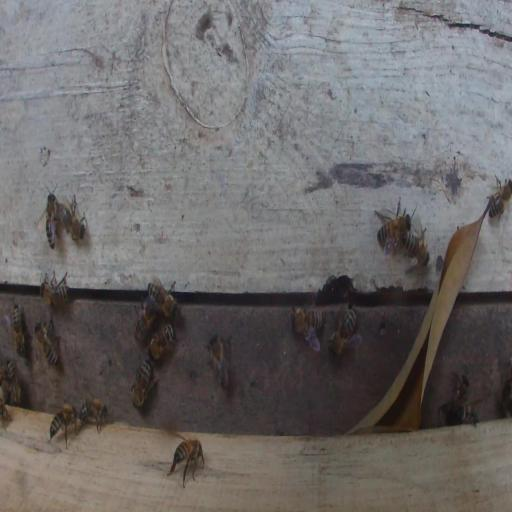nonpollenbee: (374, 197, 409, 254), (168, 436, 205, 488), (290, 305, 323, 350), (327, 308, 357, 357), (48, 403, 79, 449), (148, 277, 181, 320), (36, 188, 58, 250), (60, 193, 87, 243), (130, 359, 158, 407), (206, 332, 229, 389), (34, 319, 59, 367), (79, 396, 109, 435), (147, 322, 175, 363), (39, 270, 69, 308), (487, 174, 511, 219), (402, 230, 430, 268), (134, 298, 158, 340), (446, 379, 468, 423), (499, 364, 511, 417), (6, 361, 21, 403), (12, 306, 24, 355), (451, 404, 475, 424), (0, 398, 8, 422)
